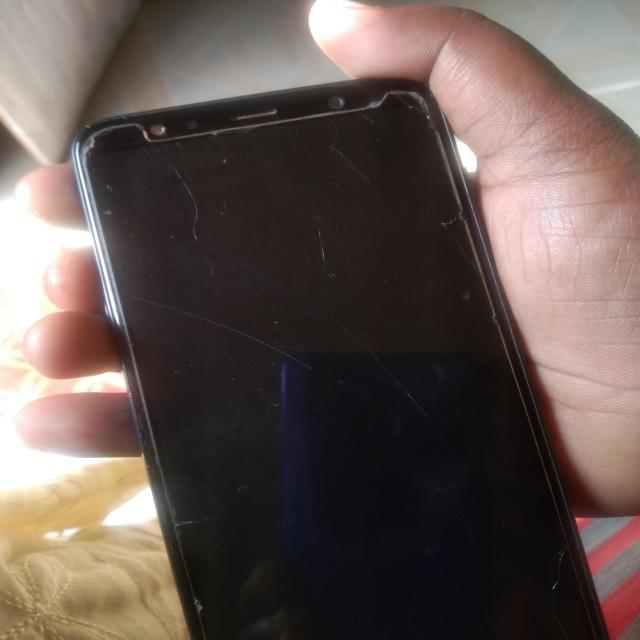mobile: (109, 54, 551, 640)
